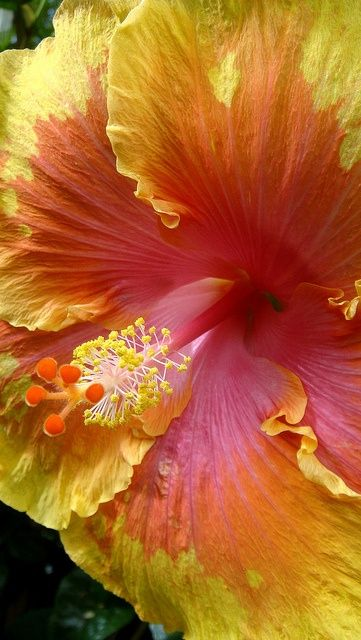Hibiscus: (1, 1, 353, 640)
